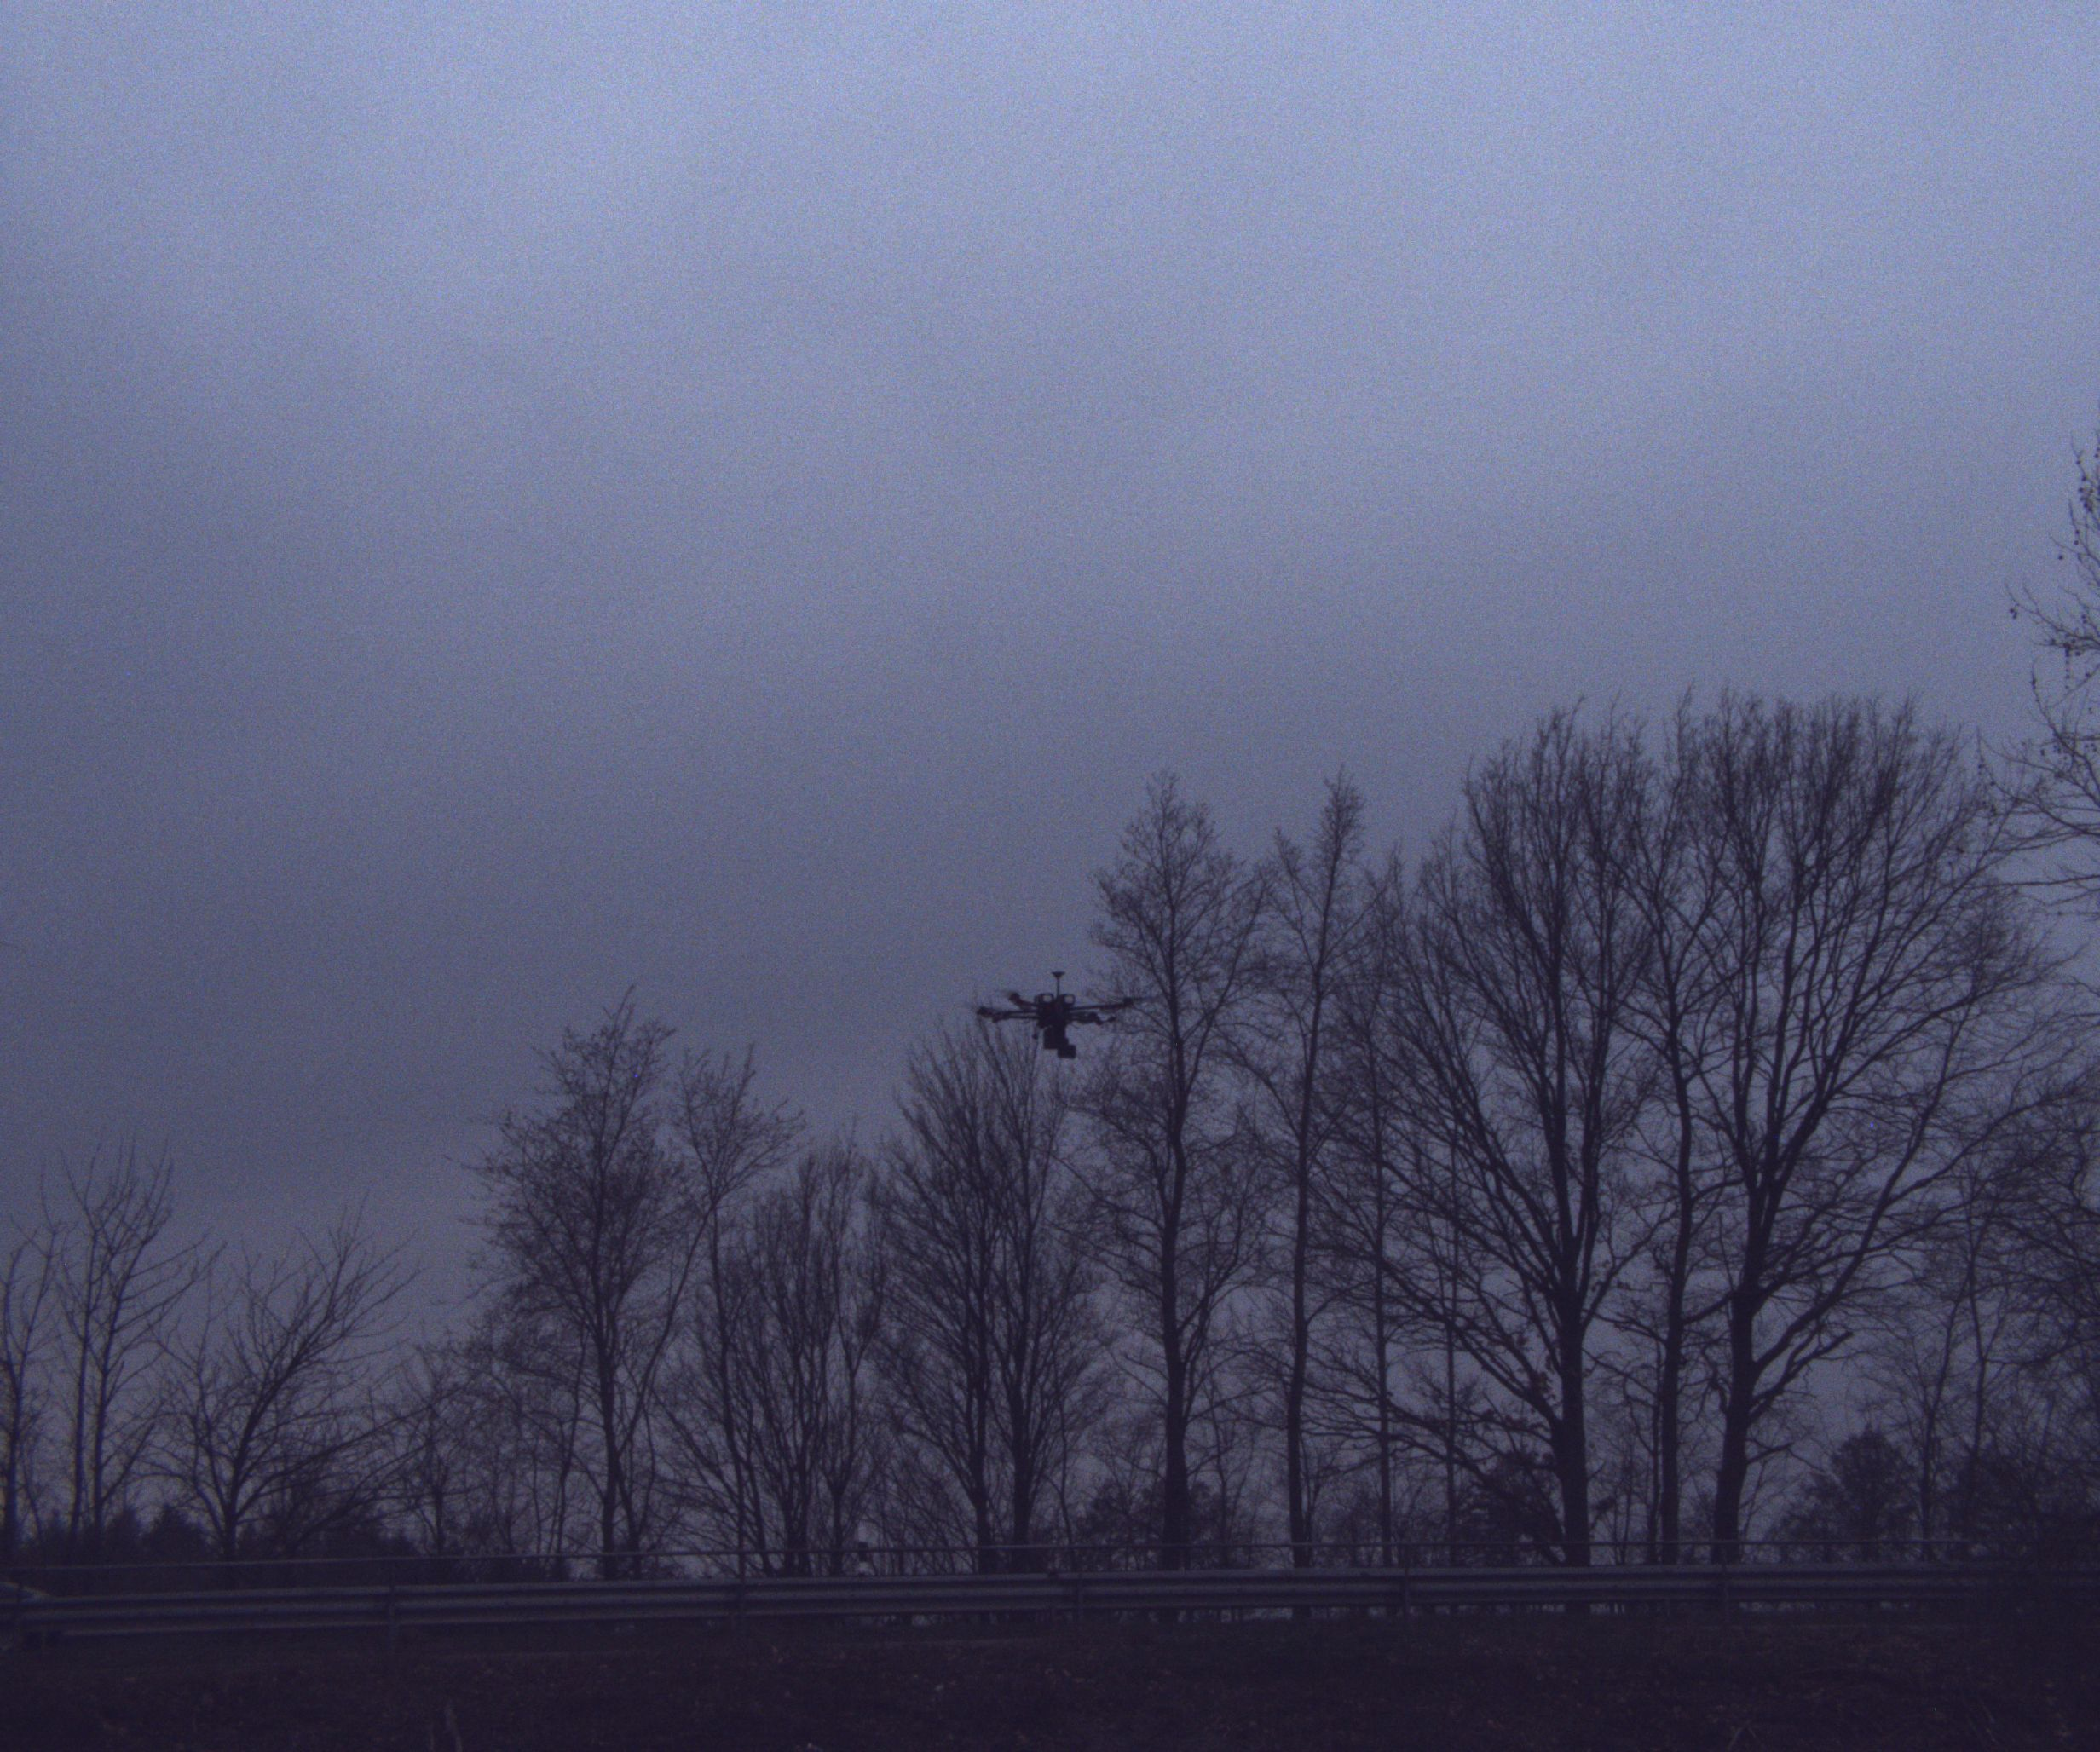Drohne: (930, 929, 1197, 1079)
